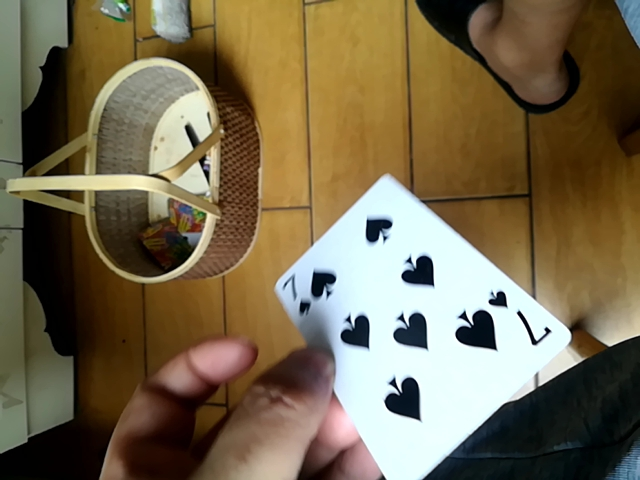ht 7: (270, 171, 579, 480)
